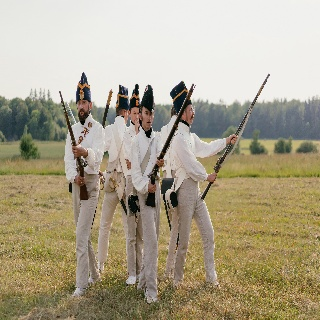rifle: (200, 72, 270, 202), (143, 82, 197, 209), (58, 90, 92, 201)
